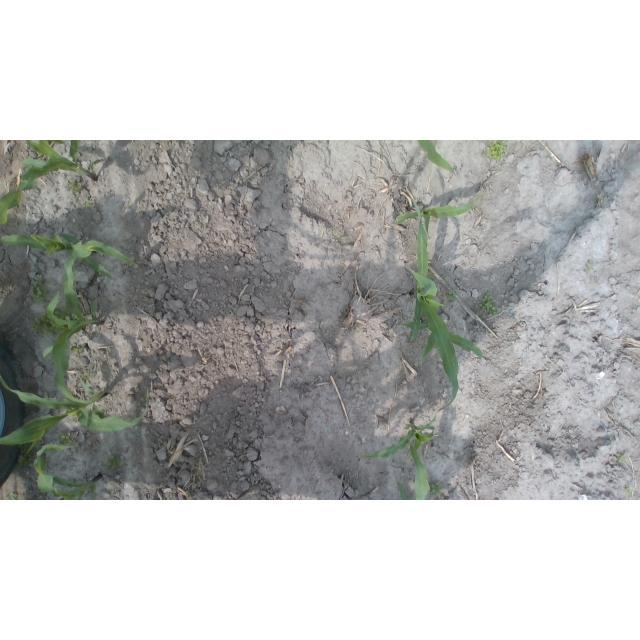Maize: (0, 366, 152, 453), (0, 141, 106, 226), (395, 188, 483, 290), (48, 256, 105, 403), (405, 266, 460, 411), (363, 416, 440, 500), (0, 234, 138, 279), (33, 444, 103, 500), (400, 318, 485, 359), (412, 140, 458, 177), (396, 481, 417, 500)
Weeds: (31, 314, 62, 338), (481, 141, 508, 162), (31, 278, 52, 302), (480, 292, 500, 316), (54, 305, 75, 321), (428, 481, 443, 500), (67, 180, 82, 195), (58, 432, 75, 444), (106, 456, 121, 469), (443, 290, 456, 301), (70, 347, 85, 354), (4, 492, 16, 500), (625, 486, 634, 495), (586, 262, 594, 272), (83, 373, 94, 380), (617, 454, 625, 463), (336, 235, 345, 242), (86, 200, 92, 209), (302, 314, 307, 319)
